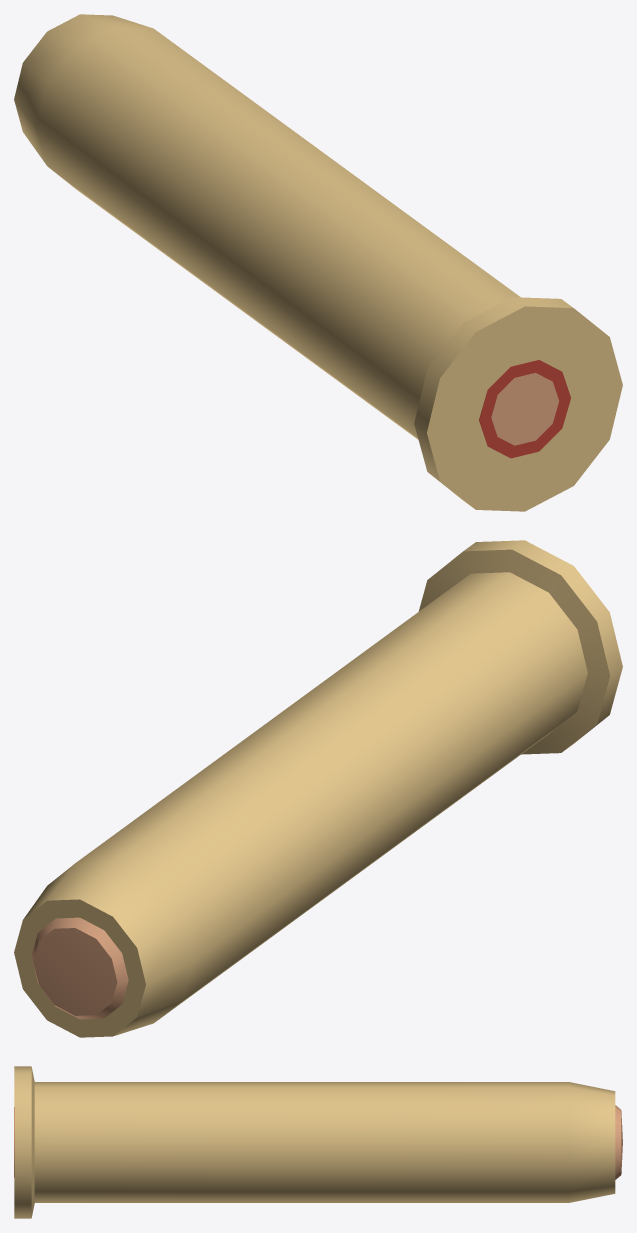
File: round_762x38r.glb
3 views of the same model, one above another, from view 1: azimuth 30°, elevation 25°; view 2: azimuth 150°, elevation 25°; view 3: azimuth 270°, elevation 25° (orthographic). The views are drawn at different scales.
Visible parts, largest first — view 1: body; view 2: body; view 3: body.
Part boxes in pixels (x1=…): body: x1=14, y1=14, x2=622, y2=511; body: x1=14, y1=540, x2=622, y2=1037; body: x1=14, y1=1066, x2=622, y2=1218.
Bounding box in the file's own units: 0.0098 × 0.0098 × 0.039.
